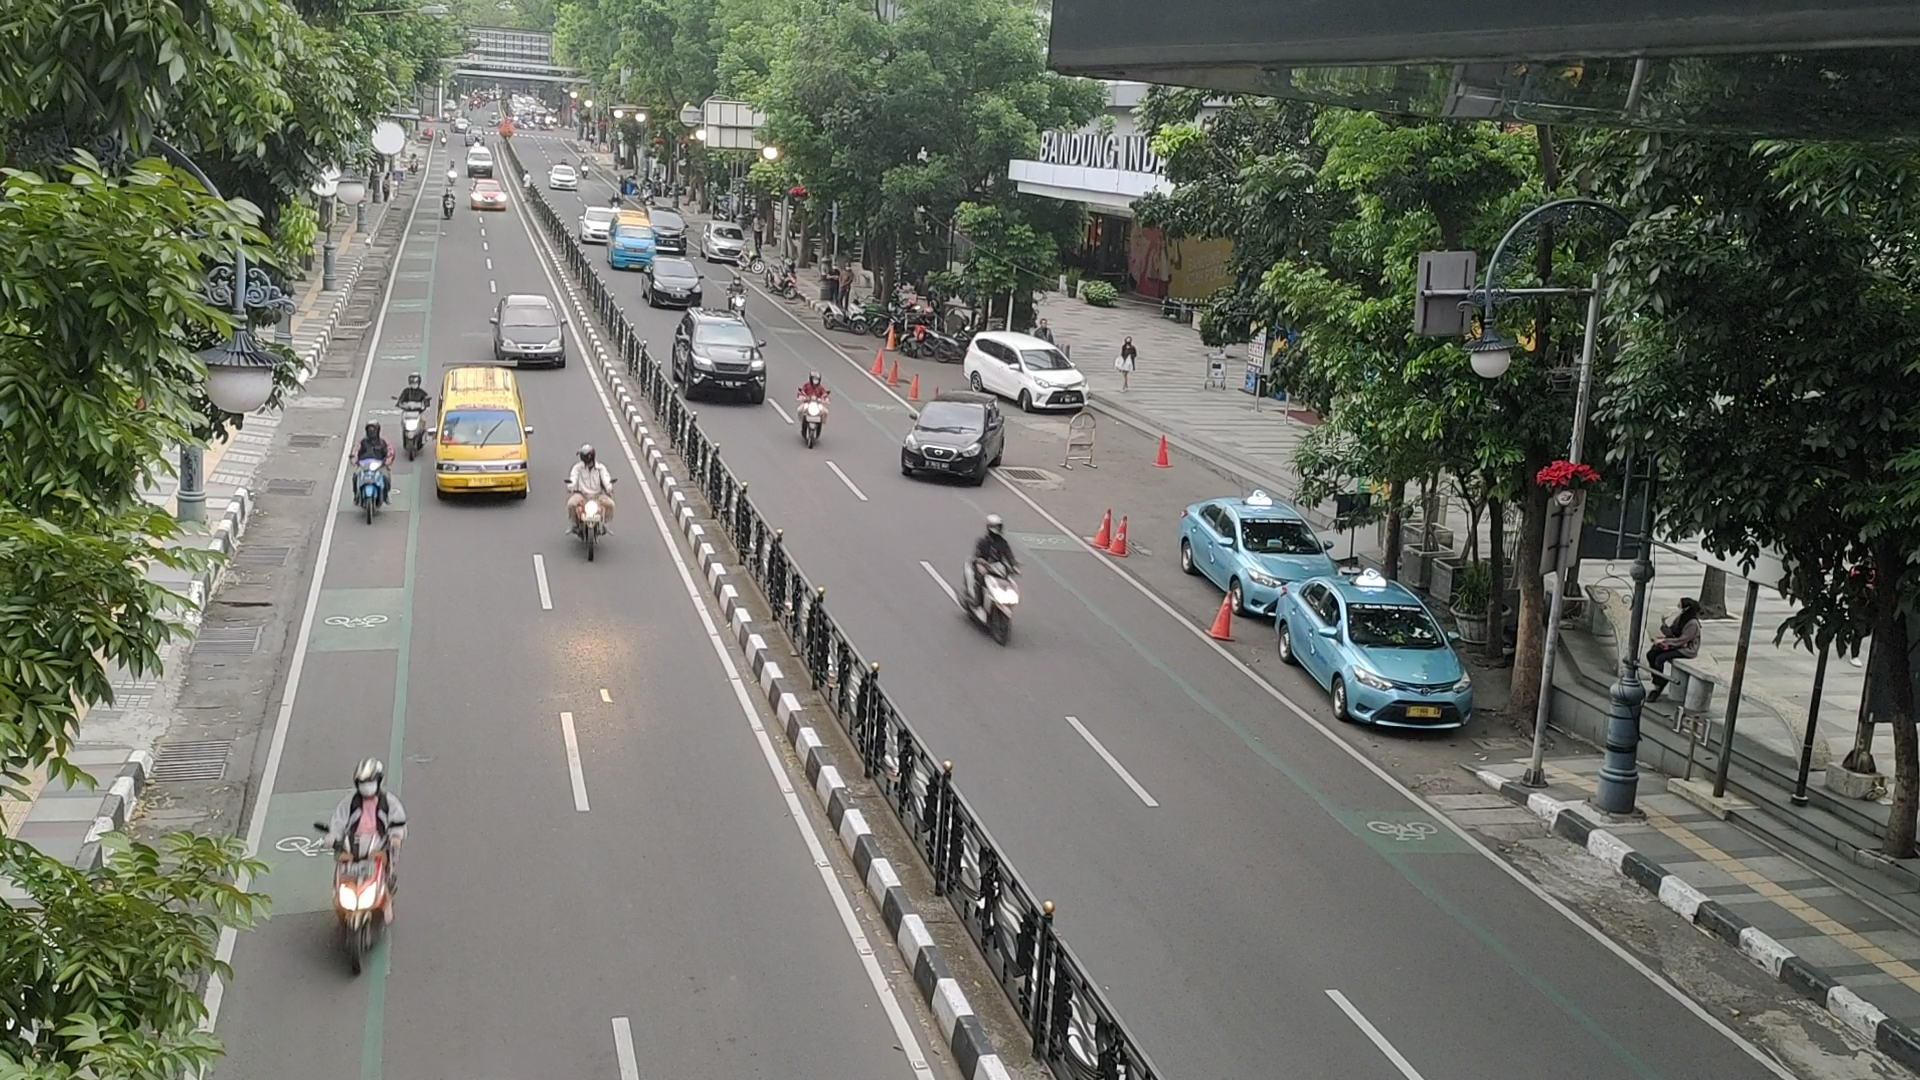mobil: (1327, 599, 1478, 736), (430, 404, 527, 504), (902, 400, 989, 487), (680, 316, 765, 405), (1011, 344, 1092, 418), (498, 299, 570, 373)
motor: (314, 750, 413, 985), (963, 506, 1025, 653), (559, 440, 613, 568), (348, 419, 396, 531), (396, 369, 433, 469), (793, 371, 829, 451)
